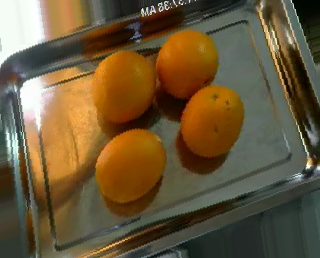Orange: (94, 127, 167, 204), (178, 83, 245, 157), (91, 49, 157, 122), (156, 29, 220, 100)
